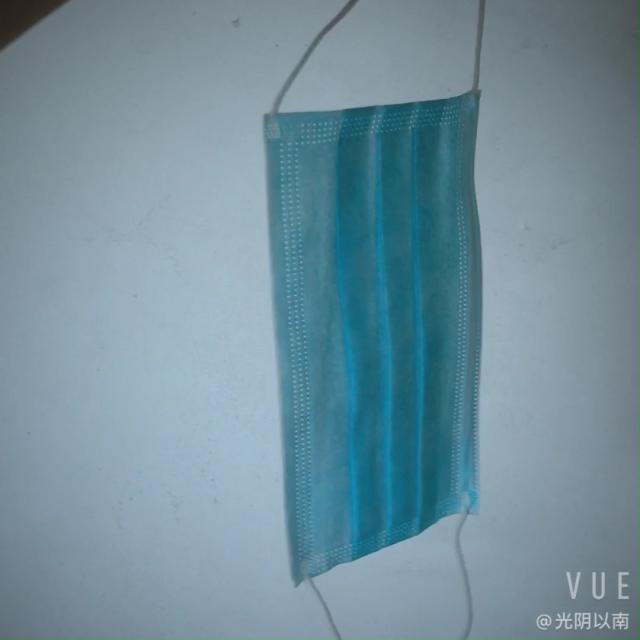face mask: (218, 70, 513, 596)
